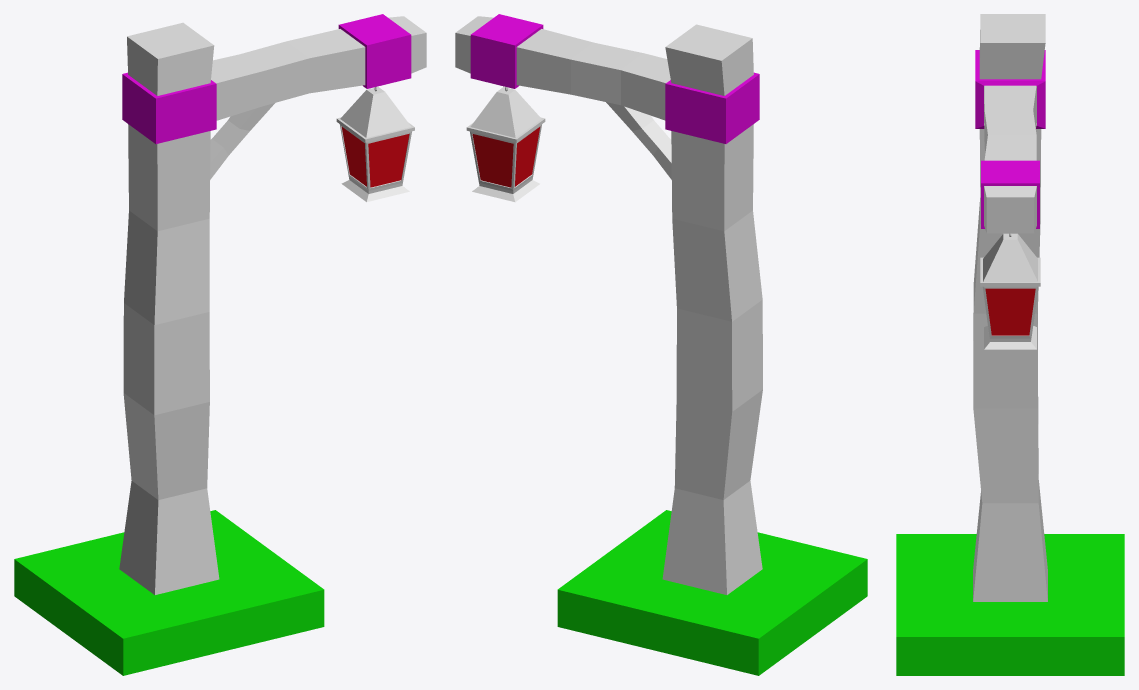
The model's file is Lampost.fbx.
3 renders of one model, left to right at view 1: azimuth 30°, elevation 25°; view 2: azimuth 150°, elevation 25°; view 3: azimuth 270°, elevation 25°, orthographic. The views are drawn at different scales.
Parts seen in each view (by area): view 1: Cube.036, Sign.005; view 2: Cube.036, Sign.005; view 3: Cube.036, Sign.005.
Boxes of the visible parts, x1=… form: Cube.036: x1=14, y1=14, x2=426, y2=675; Sign.005: x1=336, y1=86, x2=414, y2=202; Cube.036: x1=455, y1=14, x2=867, y2=675; Sign.005: x1=466, y1=86, x2=545, y2=202; Cube.036: x1=896, y1=14, x2=1124, y2=675; Sign.005: x1=980, y1=233, x2=1040, y2=349.
Bounding box in the file's own units: 149 × 234 × 81.03.
